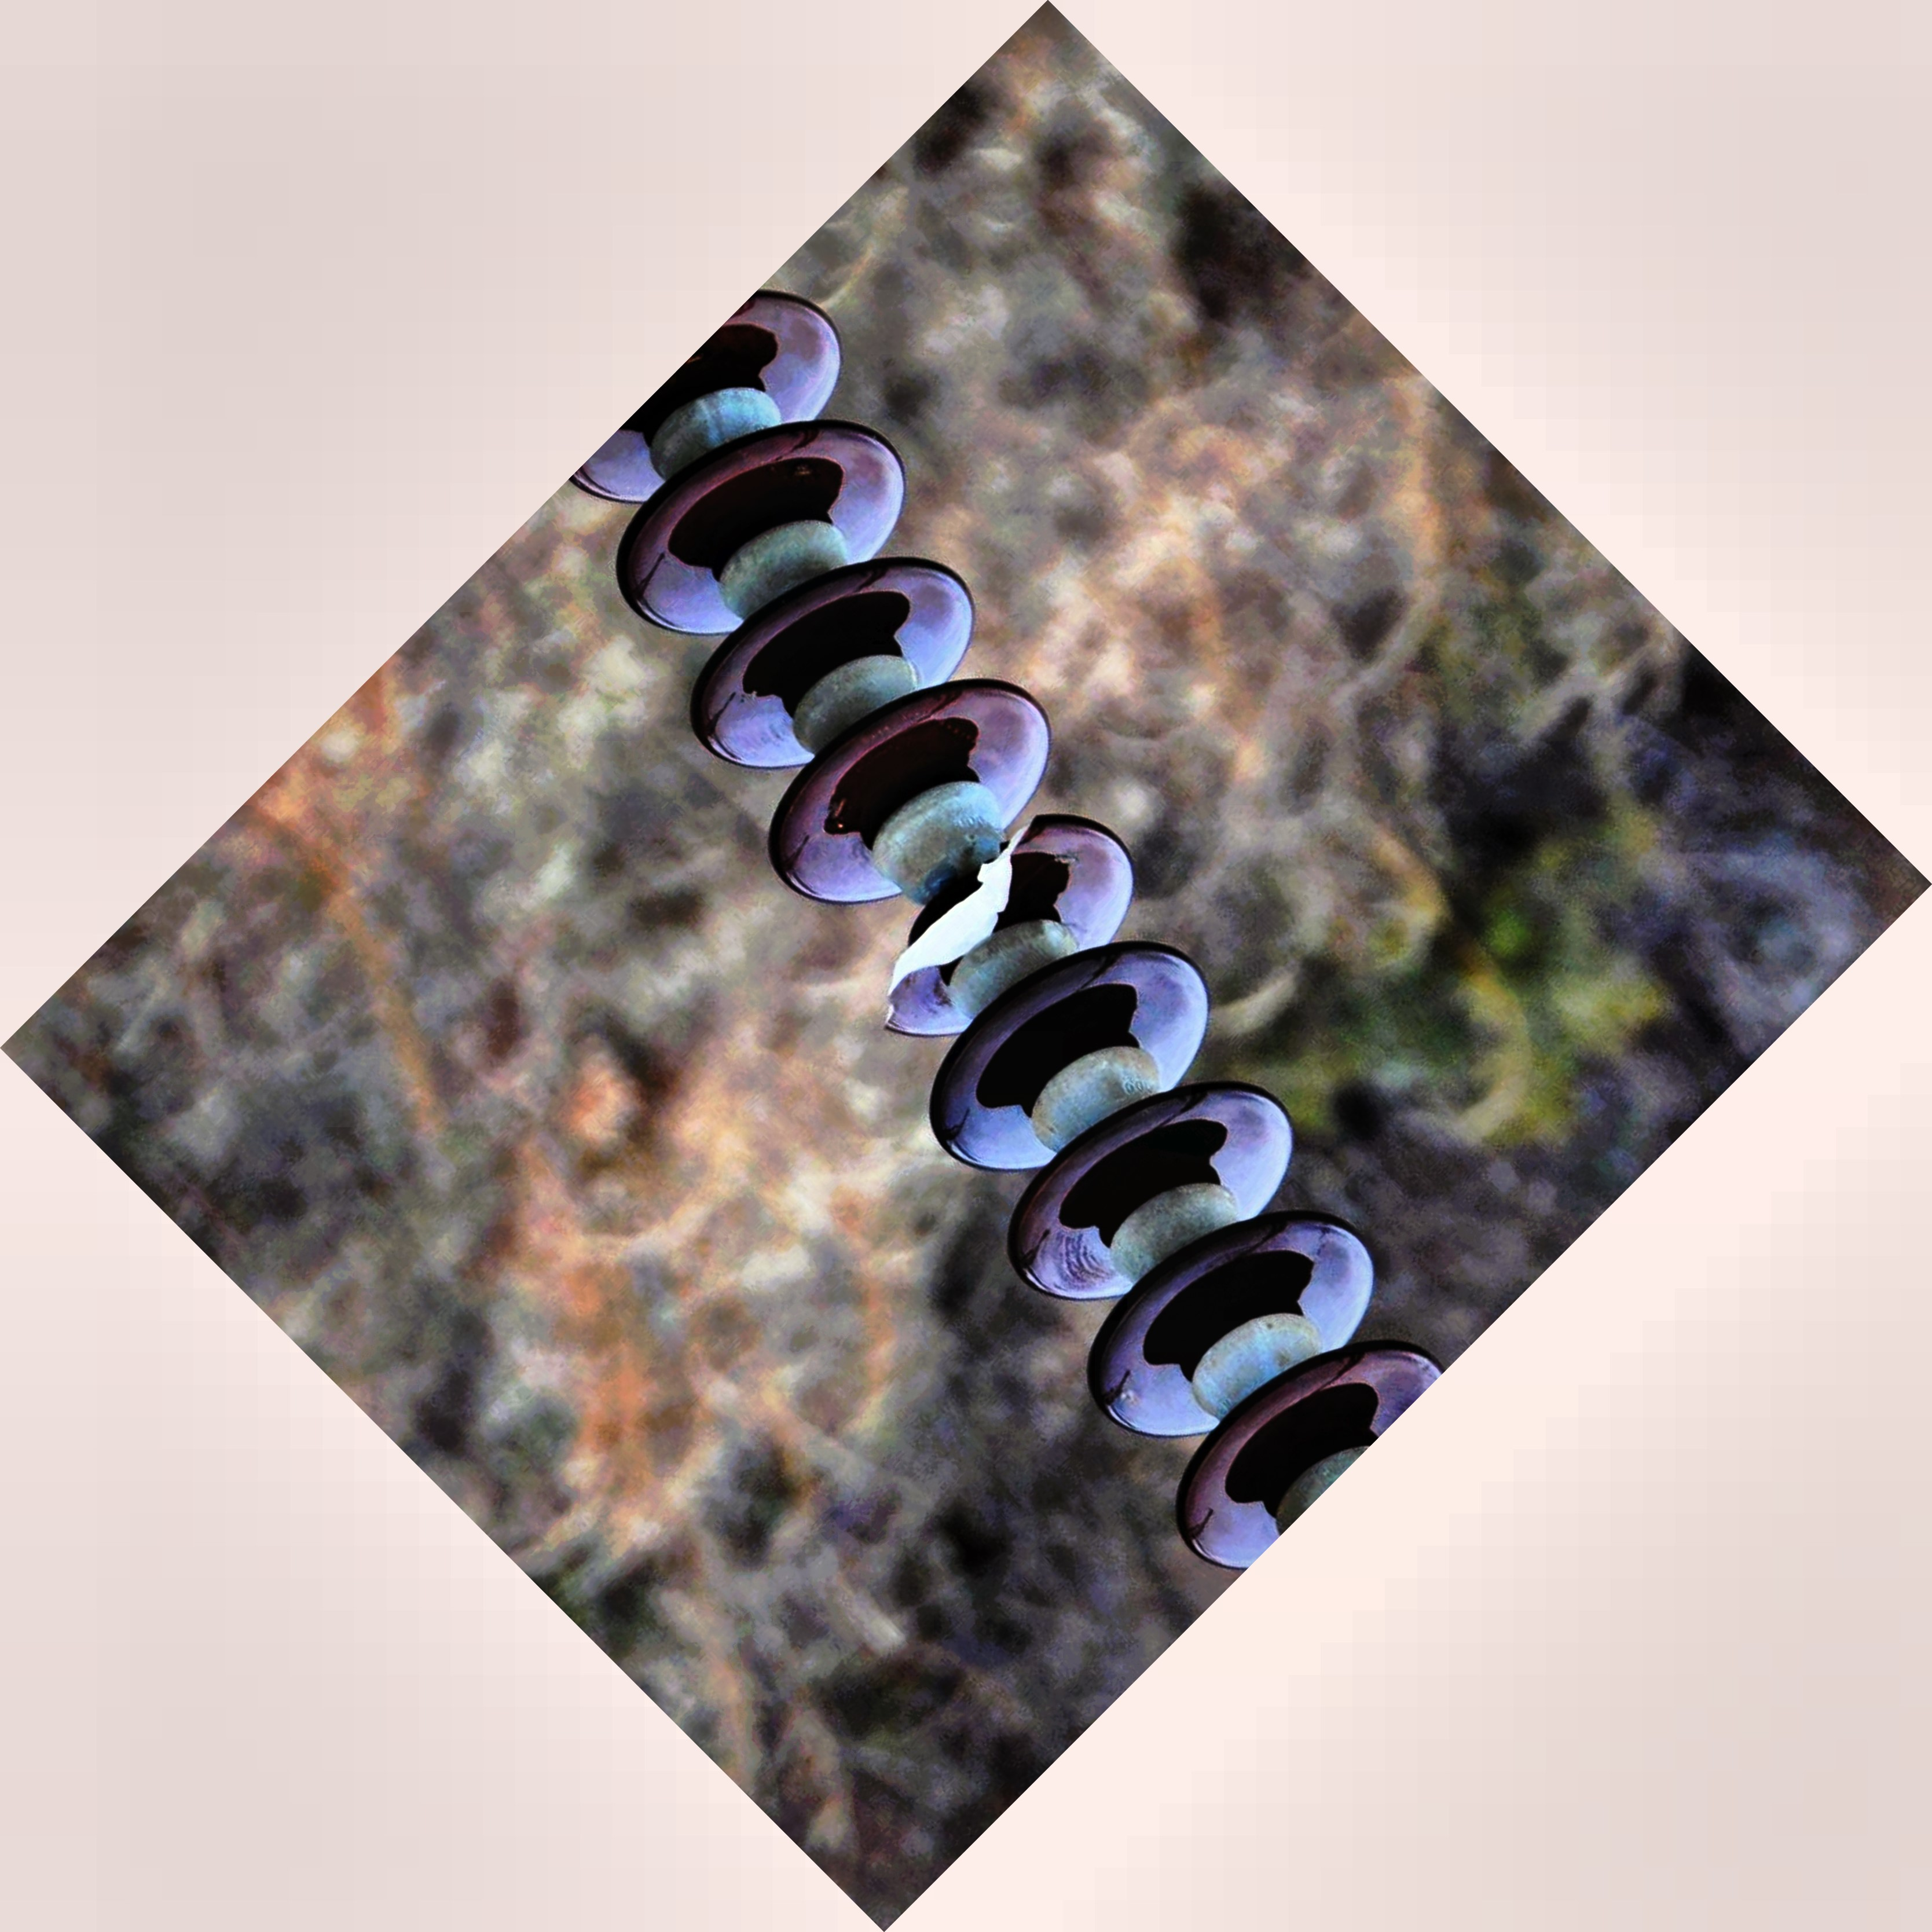insulator breakage: (860, 787, 1131, 1040)
